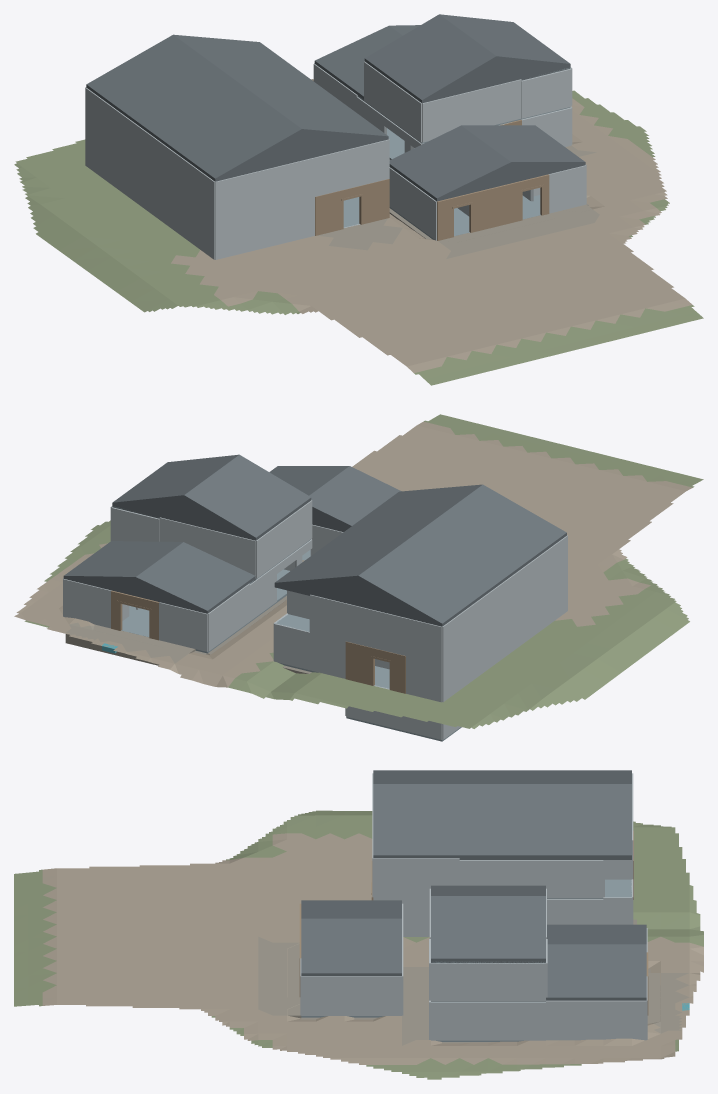
The model's file is estate-parish.glb.
The picture shows the model from 3 angles, top to bottom: view 1: azimuth 30°, elevation 25°; view 2: azimuth 150°, elevation 25°; view 3: azimuth 270°, elevation 25°; orthographic projection. The views are drawn at different scales.
Parts seen in each view (by area): view 1: FARMHOUSE saved ground, house roof west, house roof east, barn-loft roof west, workshop roof west, Wall parents S, Wall parlour S, Wall hayloft S, workshop roof east, barn-loft roof east, house gable south, Wall parents W (+24 smaller); view 2: FARMHOUSE saved ground, house roof west, house roof east, barn-loft roof west, barn-stalls roof west, Wall linen N, workshop roof west, barn-stalls roof east, Wall cleaner N, barn-loft roof east, Wall hayloft N, house gable north (+24 smaller); view 3: FARMHOUSE saved ground, house roof east, barn-loft roof east, workshop roof east, barn-stalls roof east, FARMHOUSE bay wall ('x', 26, 12, 22, 3, 6) end region0, FARMHOUSE bay wall ('x', 43, 16, 24, 0, 3) end region0, FARMHOUSE bay wall ('x', 43, 16, 24, 3, 6) end region0, Wall equipment E, house roof west, Wall parts E, barn-stalls roof west (+13 smaller).
Boxes of the visible parts, x1,y1,x2,y2 form: FARMHOUSE saved ground: (14, 79, 703, 385); house roof west: (86, 35, 301, 181); house roof east: (173, 34, 388, 138); barn-loft roof west: (364, 14, 496, 102); workshop roof west: (389, 125, 511, 200); Wall parents S: (215, 157, 314, 220); Wall parlour S: (215, 197, 314, 259); Wall hayloft S: (422, 79, 521, 142); workshop roof east: (461, 125, 585, 164); barn-loft roof east: (439, 14, 570, 66); house gable south: (217, 131, 388, 180); Wall parents W: (157, 140, 215, 220); FARMHOUSE saved ground: (14, 414, 703, 728); house roof west: (358, 484, 566, 626); house roof east: (274, 484, 482, 585); barn-loft roof west: (184, 454, 311, 540); barn-stalls roof west: (135, 542, 255, 613); Wall linen N: (346, 603, 442, 664); workshop roof west: (309, 466, 401, 527); barn-stalls roof east: (63, 541, 182, 579); Wall cleaner N: (274, 623, 345, 678); barn-loft roof east: (112, 454, 238, 504); Wall hayloft N: (159, 517, 255, 578); house gable north: (274, 578, 443, 626); FARMHOUSE saved ground: (14, 810, 703, 1079); house roof east: (373, 784, 631, 857); barn-loft roof east: (431, 896, 545, 961); workshop roof east: (301, 918, 401, 976); barn-stalls roof east: (546, 944, 646, 1000); FARMHOUSE bay wall ('x', 26, 12, 22, 3, 6) end region0: (459, 860, 603, 898); FARMHOUSE bay wall ('x', 43, 16, 24, 0, 3) end region0: (431, 1002, 545, 1040); FARMHOUSE bay wall ('x', 43, 16, 24, 3, 6) end region0: (431, 963, 545, 1001); Wall equipment E: (546, 1000, 646, 1040); house roof west: (373, 770, 631, 783); Wall parts E: (344, 976, 401, 1015); barn-stalls roof west: (547, 924, 646, 944).
Size of the model in its own units: 45 by 11.86 by 48.
